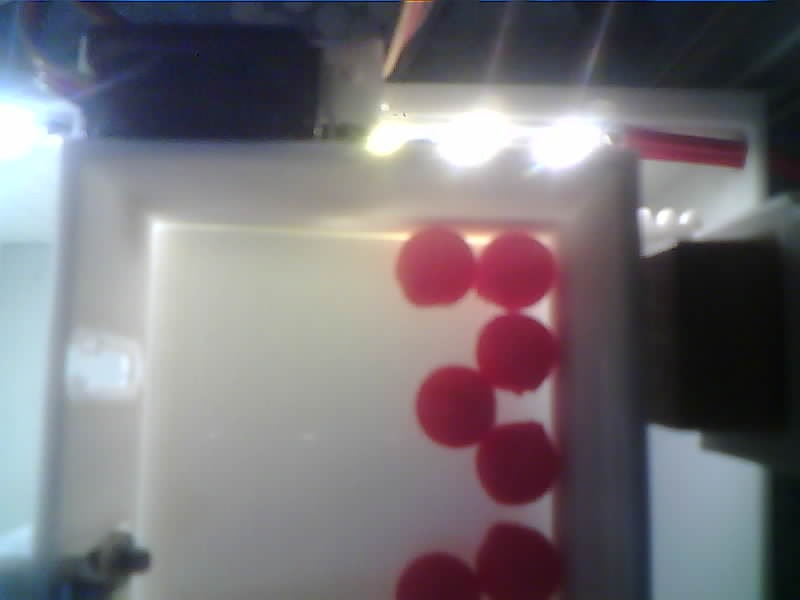Plastic: (473, 519, 564, 600), (475, 422, 561, 506), (474, 314, 560, 394), (414, 366, 494, 448), (476, 234, 559, 312), (392, 229, 474, 301), (397, 552, 477, 600)
